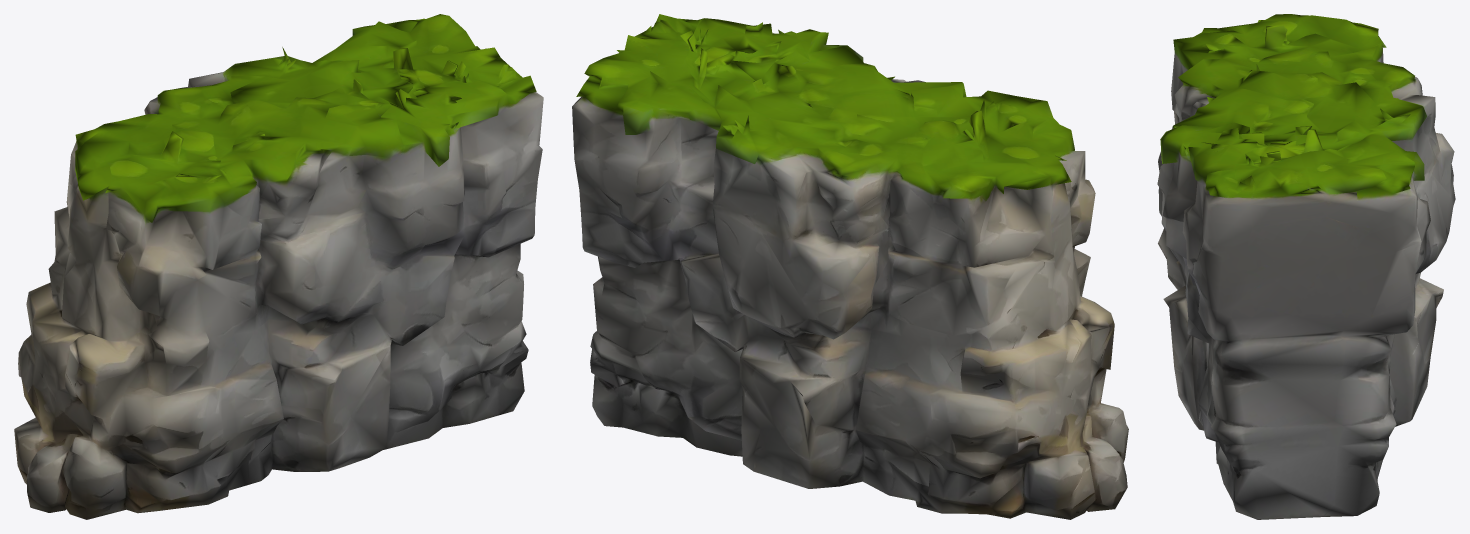
The model's file is env-cliff1.glb.
The picture shows the model from 3 angles, left to right: view 1: azimuth 30°, elevation 25°; view 2: azimuth 150°, elevation 25°; view 3: azimuth 270°, elevation 25°; orthographic projection. The views are drawn at different scales.
Visible parts, largest first — view 1: tripo_node_e3896362-62c2-4335-bcd3-97c2c46b2add; view 2: tripo_node_e3896362-62c2-4335-bcd3-97c2c46b2add; view 3: tripo_node_e3896362-62c2-4335-bcd3-97c2c46b2add.
Boxes of the visible parts, bbox=[...] form: tripo_node_e3896362-62c2-4335-bcd3-97c2c46b2add: bbox=[14, 14, 543, 519]; tripo_node_e3896362-62c2-4335-bcd3-97c2c46b2add: bbox=[572, 14, 1128, 519]; tripo_node_e3896362-62c2-4335-bcd3-97c2c46b2add: bbox=[1157, 14, 1455, 519].
Bounding box in the file's own units: 0.9984 × 0.7165 × 0.5473.
Materials: 1 (1 with a texture image).
